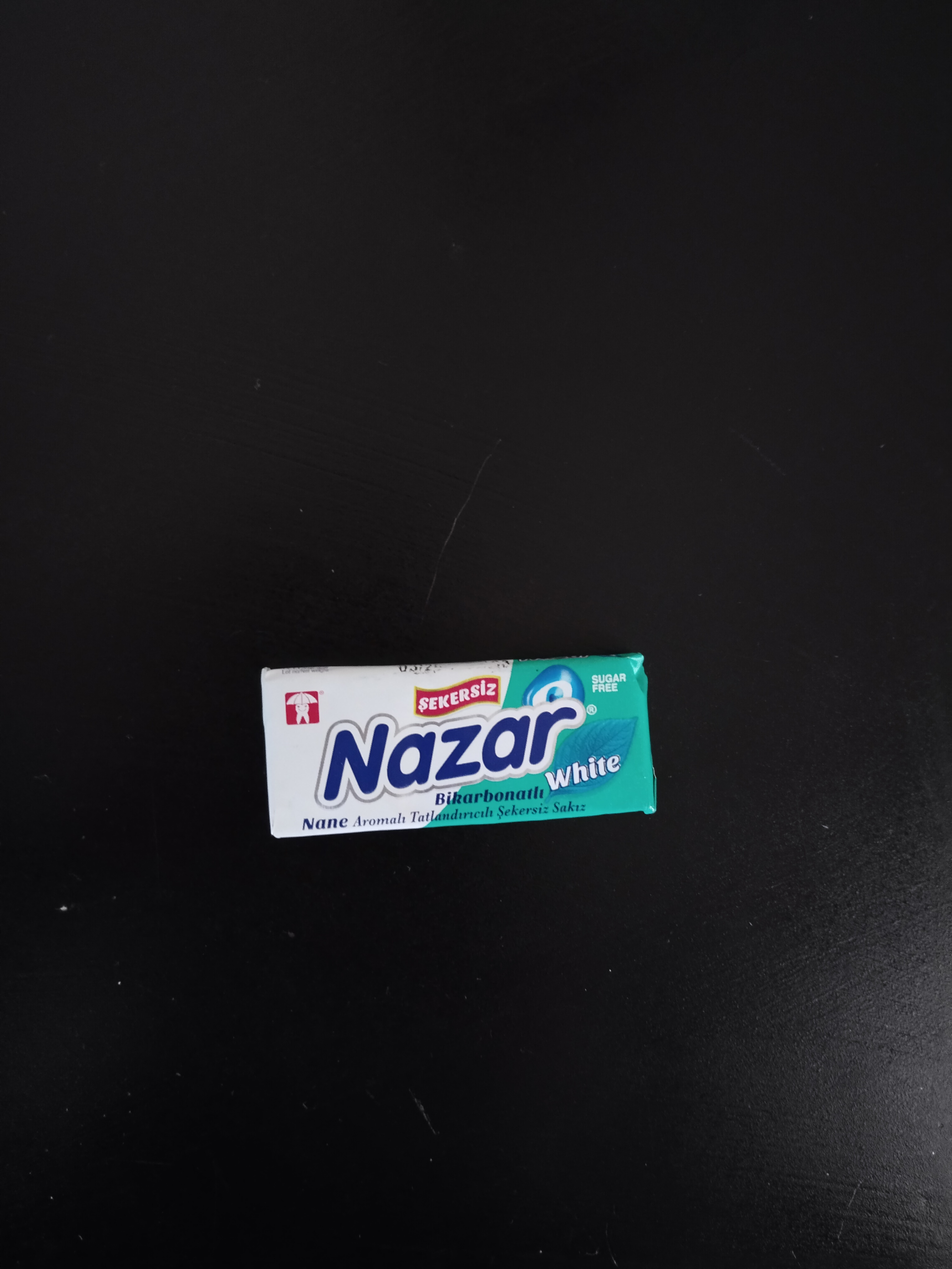nazar_damla_sakizli_sakiz: (262, 652, 654, 839)
